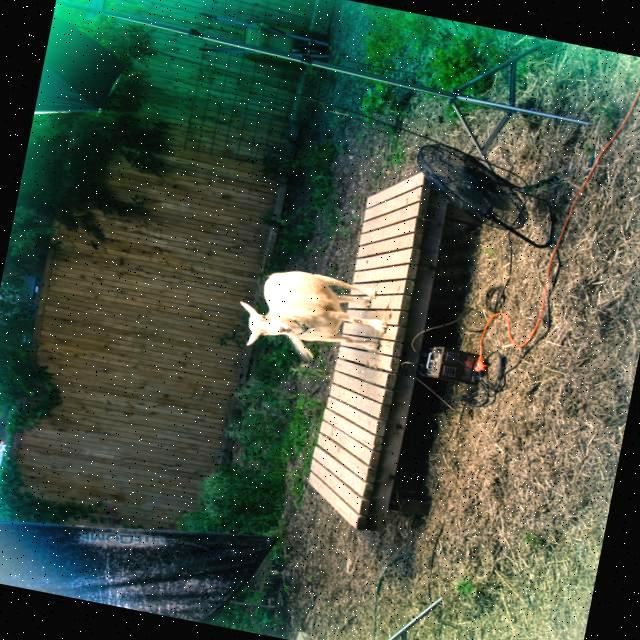sheep: (243, 271, 383, 349)
